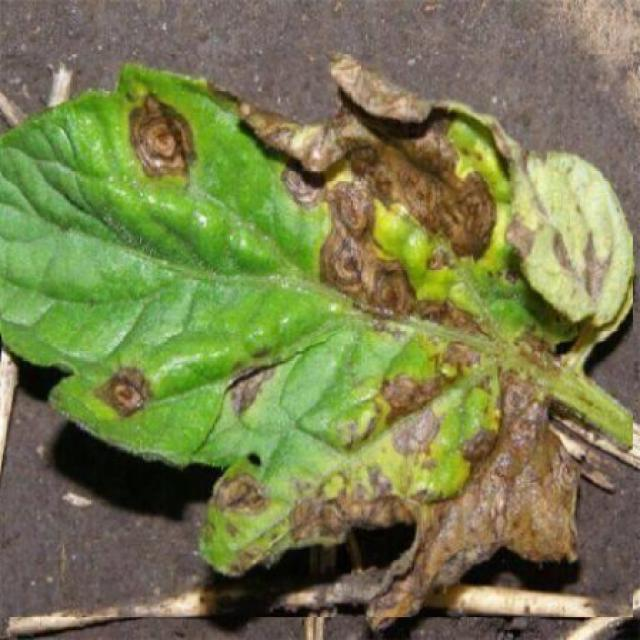Early Blight: (2, 54, 634, 617)
